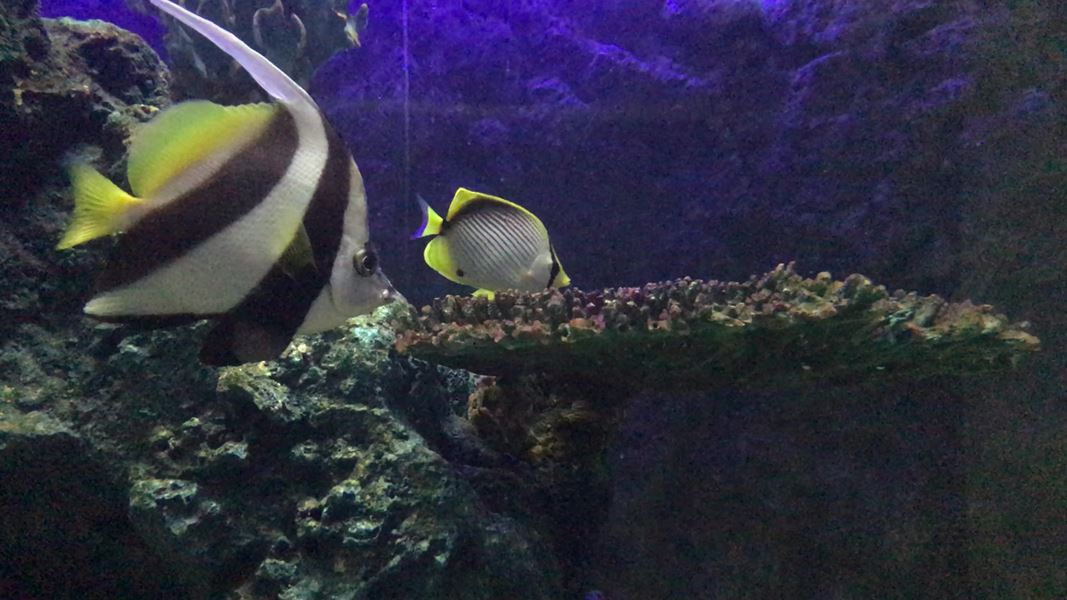Black-backed butterflyfish: (403, 178, 579, 302)
